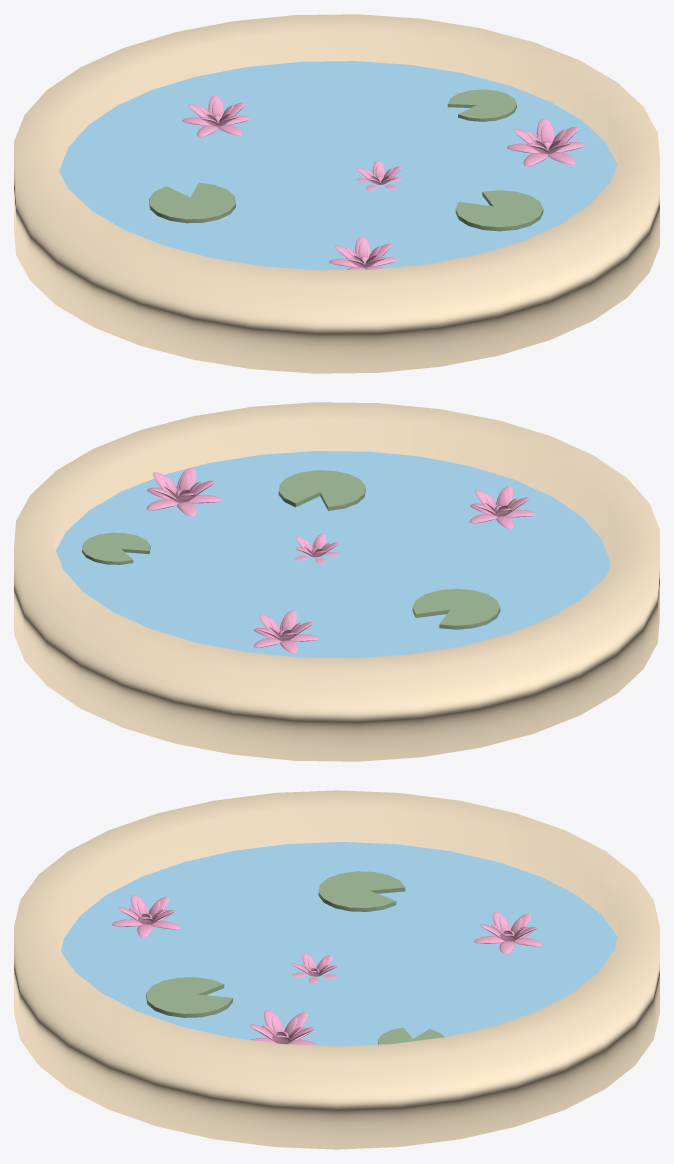
The model's file is pond.glb.
3 views of the same model, one above another, from view 1: azimuth 30°, elevation 25°; view 2: azimuth 150°, elevation 25°; view 3: azimuth 270°, elevation 25° (orthographic).
Parts seen in each view (by area): view 1: Cylinder, Cylinder.001, leaf, leaf.001, lotus.002, leaf.002, lotus.001, lotus, lotus.003; view 2: Cylinder, Cylinder.001, leaf.001, leaf, lotus.002, leaf.002, lotus, lotus.001, lotus.003; view 3: Cylinder, Cylinder.001, leaf, leaf.001, lotus, lotus.001, lotus.002, lotus.003, leaf.002.
Part boxes in pixels (left/top/right/bottom): Cylinder: left=14, top=14, right=659, bottom=373; Cylinder.001: left=59, top=61, right=617, bottom=270; leaf: left=455, top=190, right=543, bottom=231; leaf.001: left=149, top=182, right=235, bottom=223; lotus.002: left=507, top=118, right=585, bottom=166; leaf.002: left=447, top=89, right=516, bottom=121; lotus.001: left=182, top=95, right=250, bottom=137; lotus: left=329, top=236, right=397, bottom=269; lotus.003: left=356, top=160, right=402, bottom=190; Cylinder: left=14, top=402, right=659, bottom=761; Cylinder.001: left=56, top=451, right=610, bottom=658; leaf.001: left=412, top=588, right=500, bottom=629; leaf: left=278, top=470, right=365, bottom=510; lotus.002: left=146, top=467, right=221, bottom=516; leaf.002: left=82, top=532, right=150, bottom=564; lotus: left=469, top=486, right=535, bottom=528; lotus.001: left=253, top=610, right=319, bottom=653; lotus.003: left=295, top=533, right=339, bottom=563; Cylinder: left=14, top=790, right=659, bottom=1149; Cylinder.001: left=61, top=842, right=617, bottom=1046; leaf: left=146, top=977, right=232, bottom=1017; leaf.001: left=318, top=871, right=405, bottom=911; lotus: left=112, top=895, right=180, bottom=937; lotus.001: left=474, top=912, right=542, bottom=954; lotus.002: left=249, top=1010, right=318, bottom=1045; lotus.003: left=291, top=953, right=337, bottom=983; leaf.002: left=378, top=1027, right=444, bottom=1044.
Bounding box in the file's own units: 9.51 × 1.4 × 9.51.
